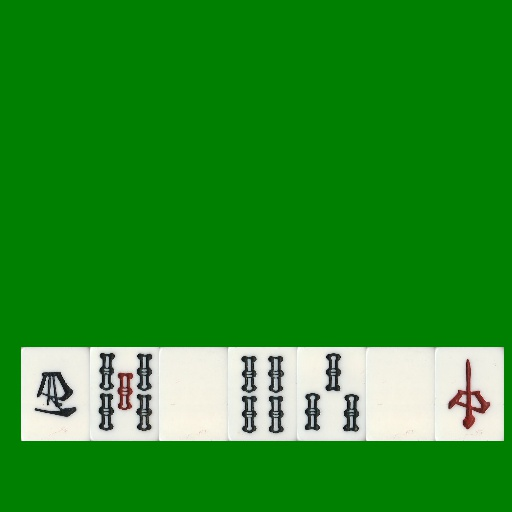3s: (297, 347, 366, 441)
4s: (228, 347, 297, 441)
5s: (90, 347, 159, 441)
tyun: (435, 347, 504, 441)
west: (21, 347, 90, 441)
white: (159, 347, 228, 441), (366, 347, 435, 441)
